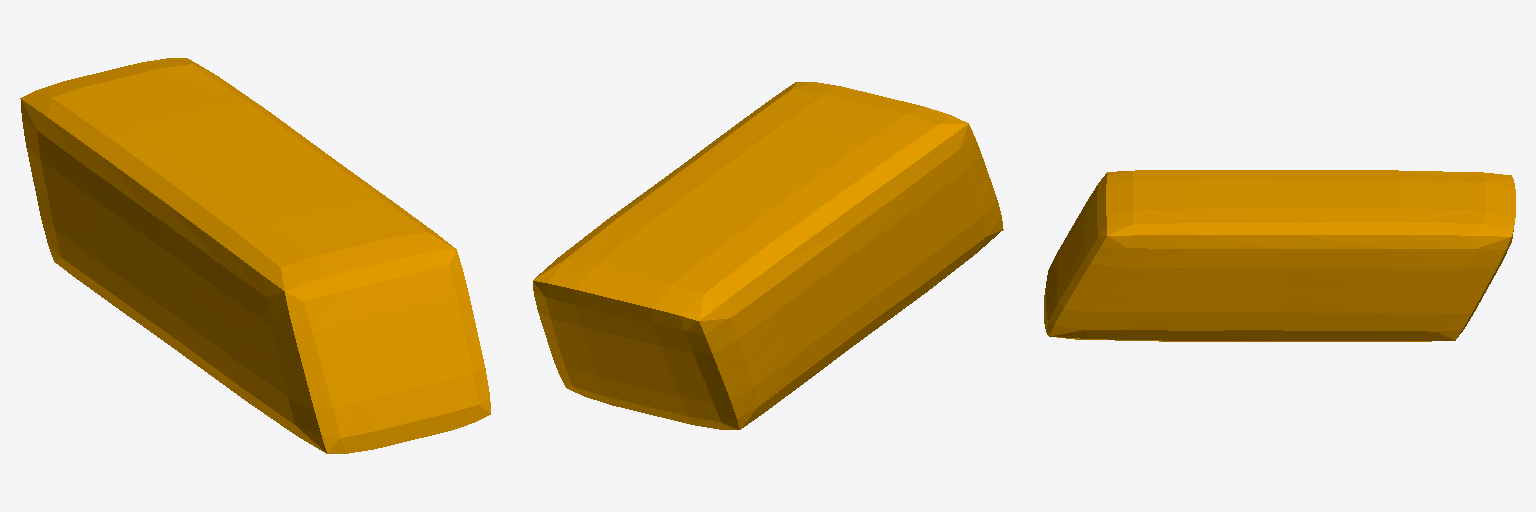
URDF robot description (eraser):
<robot name="eraser">
  <link name="eraser_base_link">
    <inertial>
      <origin rpy="0 0 0" xyz="0 0 0"/>
      <mass value="0.2"/>
      <inertia ixx="0" ixy="0" ixz="0" iyy="0" iyz="0" izz="0"/>
    </inertial>
    <visual>
      <origin rpy="1.571 0 0" xyz="0 0 0"/>
      <geometry>
        <mesh filename="eraser.obj" scale="0.005 0.01 0.005"/>
      </geometry>
    </visual>
    <collision>
      <origin rpy="1.571 0 0" xyz="0 0 0"/>
      <geometry>
        <mesh filename="eraser.obj" scale="0.005 0.01 0.005"/>
      </geometry>
    </collision>
  </link>
</robot>

--- What the picture shows (computed from the rendered views, not written in the file) ---
3 views of the same robot in one strip: view 1: azimuth 30°, elevation 25°; view 2: azimuth 150°, elevation 25°; view 3: azimuth 270°, elevation 25° (orthographic).
Robot: eraser — 1 links, 0 joints (none); root link eraser_base_link; default pose: all joints at 0.
Visible links, largest first — view 1: eraser_base_link; view 2: eraser_base_link; view 3: eraser_base_link.
Boxes of the visible links, bbox=[...] form: eraser_base_link: bbox=[20, 58, 490, 453]; eraser_base_link: bbox=[533, 82, 1003, 429]; eraser_base_link: bbox=[1044, 170, 1515, 341].
Bounding box of the posed robot: 0.0281 × 0.0811 × 0.0236 m (x, y, z).
Meshes: 1 distinct files referenced, 1 mesh visuals loaded (1 OBJ).